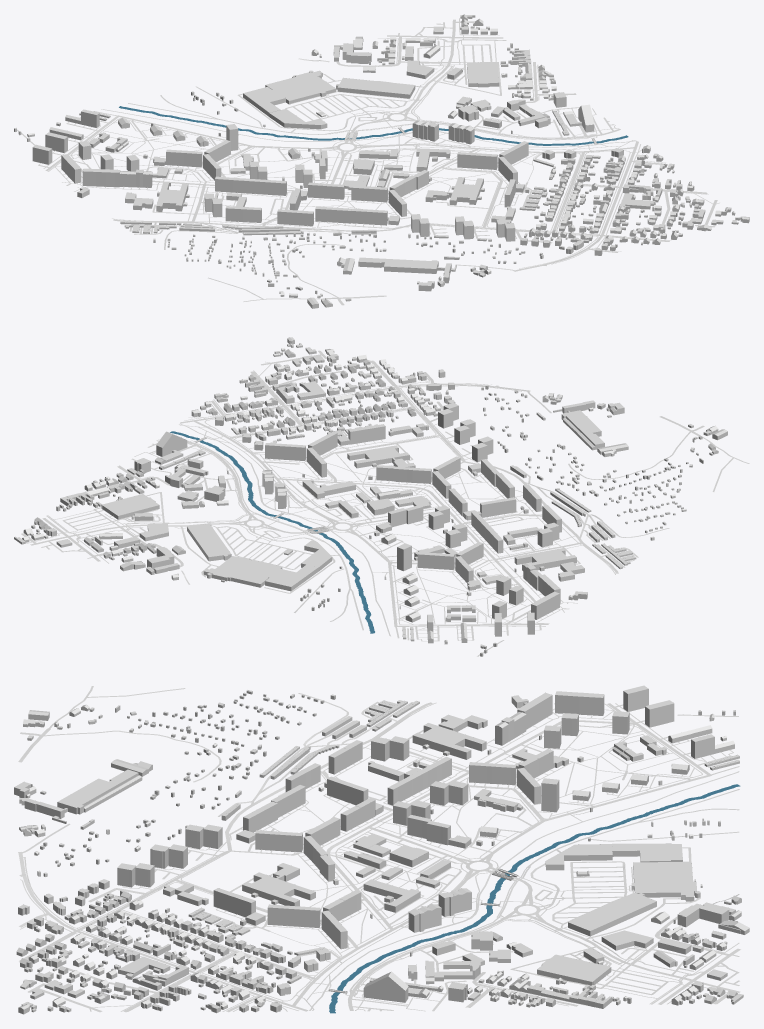
File: objekty.glb
The picture shows the model from 3 angles, top to bottom: view 1: azimuth 30°, elevation 25°; view 2: azimuth 150°, elevation 25°; view 3: azimuth 270°, elevation 25°; orthographic projection. The views are drawn at different scales.
Visible parts, largest first — view 1: Budovy_03_05, Cesty_03_05, Okna_Dvere_03_05, Voda_03_05; view 2: Budovy_03_05, Cesty_03_05, Okna_Dvere_03_05, Voda_03_05; view 3: Budovy_03_05, Cesty_03_05, Okna_Dvere_03_05, Voda_03_05.
Boxes of the visible parts, left/top/right/bottom form: Budovy_03_05: left=14, top=14, right=749, bottom=308; Cesty_03_05: left=17, top=18, right=719, bottom=305; Okna_Dvere_03_05: left=14, top=16, right=748, bottom=307; Voda_03_05: left=119, top=106, right=628, bottom=145; Budovy_03_05: left=14, top=337, right=727, bottom=656; Cesty_03_05: left=21, top=350, right=749, bottom=656; Okna_Dvere_03_05: left=16, top=341, right=727, bottom=655; Voda_03_05: left=170, top=431, right=374, bottom=633; Budovy_03_05: left=14, top=685, right=749, bottom=1014; Cesty_03_05: left=18, top=686, right=740, bottom=1012; Okna_Dvere_03_05: left=14, top=690, right=749, bottom=1012; Voda_03_05: left=329, top=784, right=740, bottom=1013.
Size of the model in its own units: 1020 by 49.69 by 1025.
